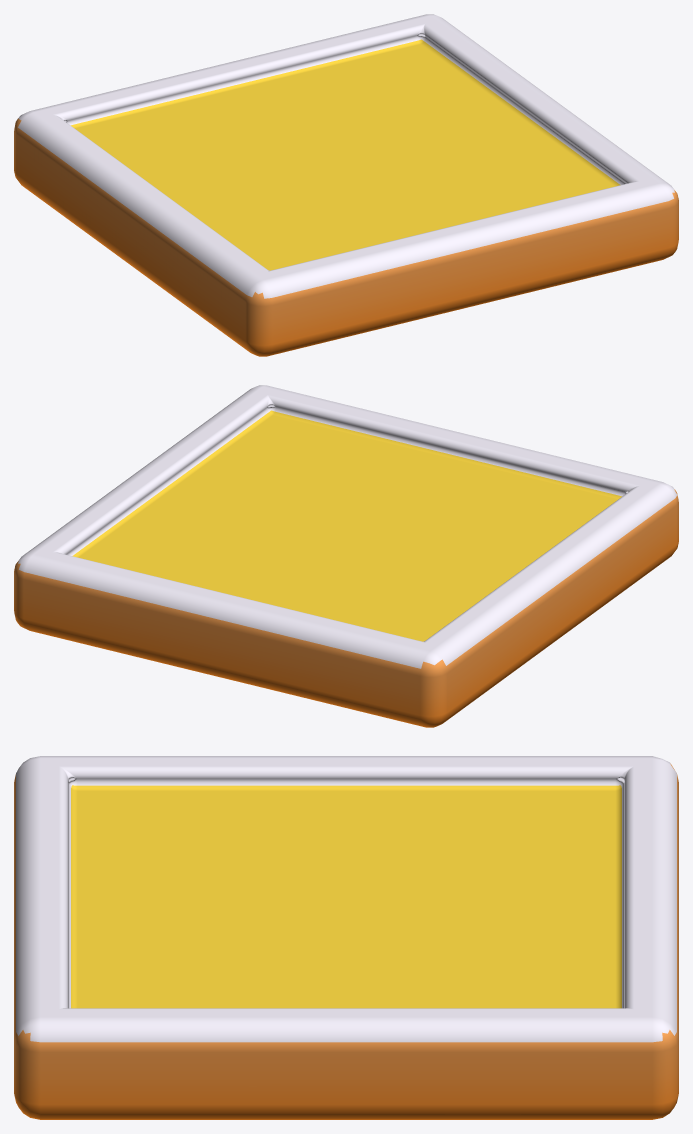
Rendered from tile_3x3.glb.
3 views of the same model, one above another, from view 1: azimuth 30°, elevation 25°; view 2: azimuth 150°, elevation 25°; view 3: azimuth 270°, elevation 25° (orthographic). The views are drawn at different scales.
Parts seen in each view (by area): view 1: tile_3x3; view 2: tile_3x3; view 3: tile_3x3.
Boxes of the visible parts, x1,y1,x2,y2 form: tile_3x3: (14, 14, 678, 356); tile_3x3: (14, 385, 678, 727); tile_3x3: (14, 756, 678, 1119).
Size of the model in its own units: 3 by 0.5 by 3.
Materials: 1 (1 with a texture image).
